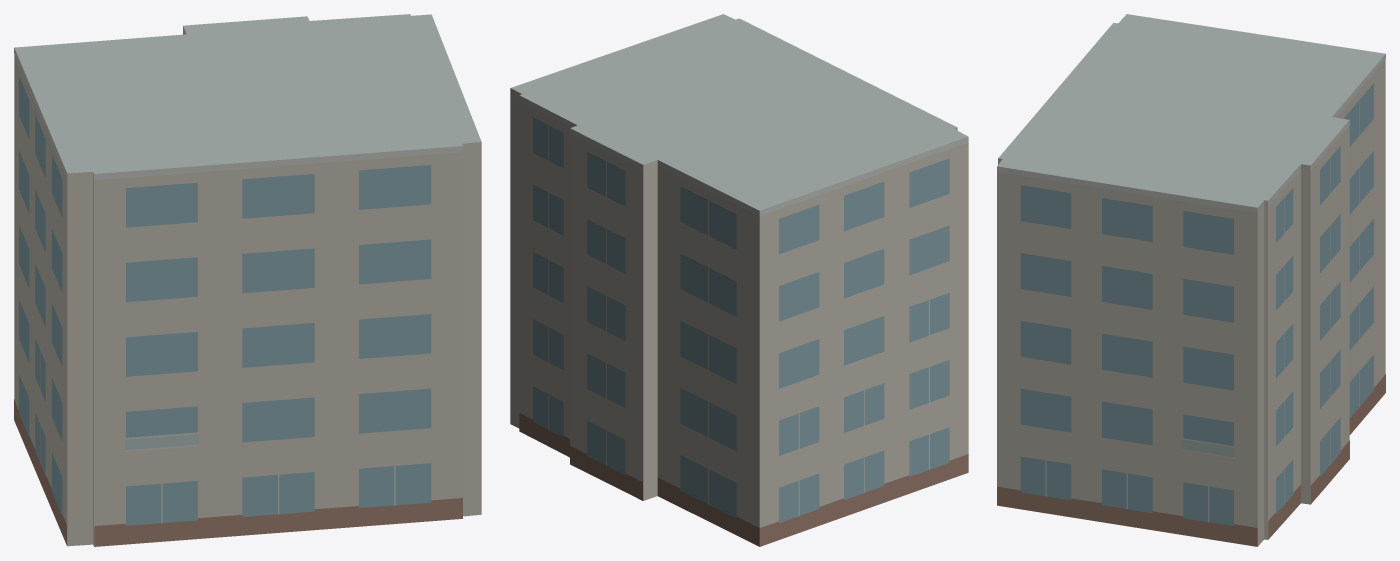
Rendered from survey-upis-32690706.glb.
3 views of the same model, side by side, from view 1: azimuth 30°, elevation 25°; view 2: azimuth 150°, elevation 25°; view 3: azimuth 270°, elevation 25° (orthographic). The views are drawn at different scales.
Parts seen in each view (by area): view 1: survey-upis-32690706.tmp; view 2: survey-upis-32690706.tmp; view 3: survey-upis-32690706.tmp.
Part boxes in pixels (x1,y1,x2,y2): survey-upis-32690706.tmp: (14,14,481,546); survey-upis-32690706.tmp: (510,14,968,546); survey-upis-32690706.tmp: (997,14,1385,546).
Size of the model in its own units: 18.08 by 14.75 by 15.33.
